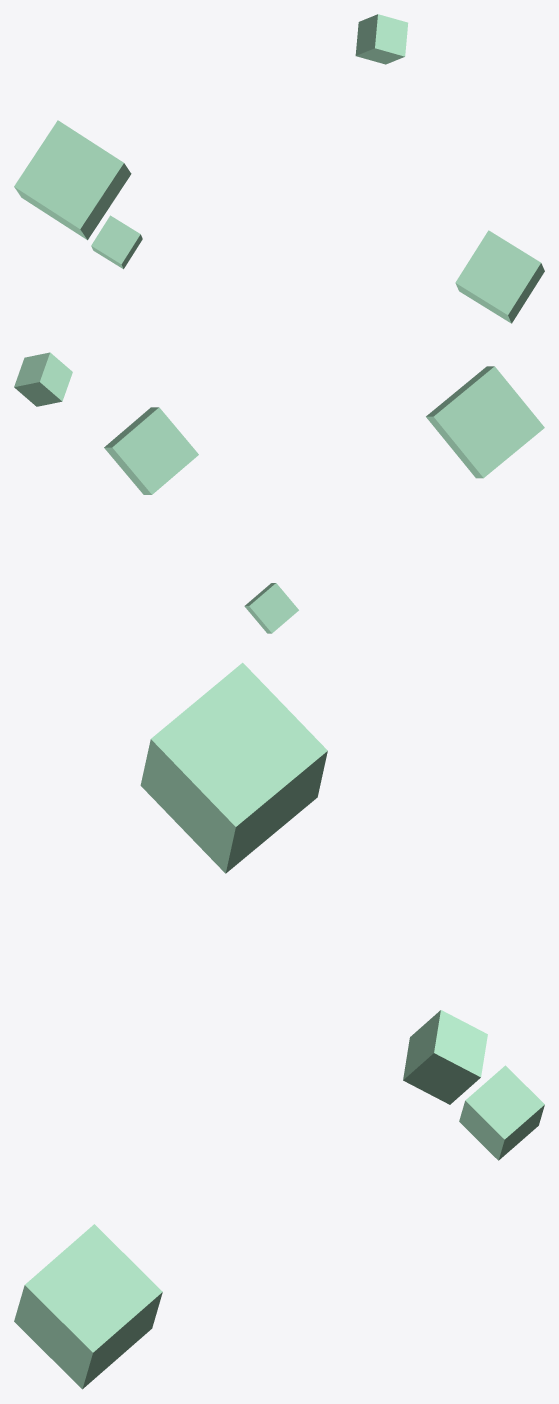
File: cubes.glb
The picture shows the model from 3 angles, top to bottom: view 1: azimuth 30°, elevation 25°; view 2: azimuth 150°, elevation 25°; view 3: azimuth 270°, elevation 25°; orthographic projection. The views are drawn at different scales.
Parts seen in each view (by area): view 1: Cube.001, Cube.016, Cube.002, Cube.015; view 2: Cube.001, Cube.016, Cube.002, Cube.015; view 3: Cube.001, Cube.016, Cube.002, Cube.015.
Part boxes in pixels (bbox=[...]): Cube.001: bbox=[14, 120, 131, 240]; Cube.016: bbox=[455, 230, 544, 323]; Cube.002: bbox=[355, 14, 408, 64]; Cube.015: bbox=[91, 215, 142, 269]; Cube.001: bbox=[426, 366, 544, 478]; Cube.016: bbox=[104, 407, 198, 494]; Cube.002: bbox=[14, 352, 72, 406]; Cube.015: bbox=[244, 583, 298, 633]; Cube.001: bbox=[140, 662, 327, 873]; Cube.016: bbox=[14, 1224, 162, 1389]; Cube.002: bbox=[403, 1010, 487, 1104]; Cube.015: bbox=[459, 1065, 544, 1160].
Bounding box in the file's own units: 5.35 × 2.78 × 3.21.
